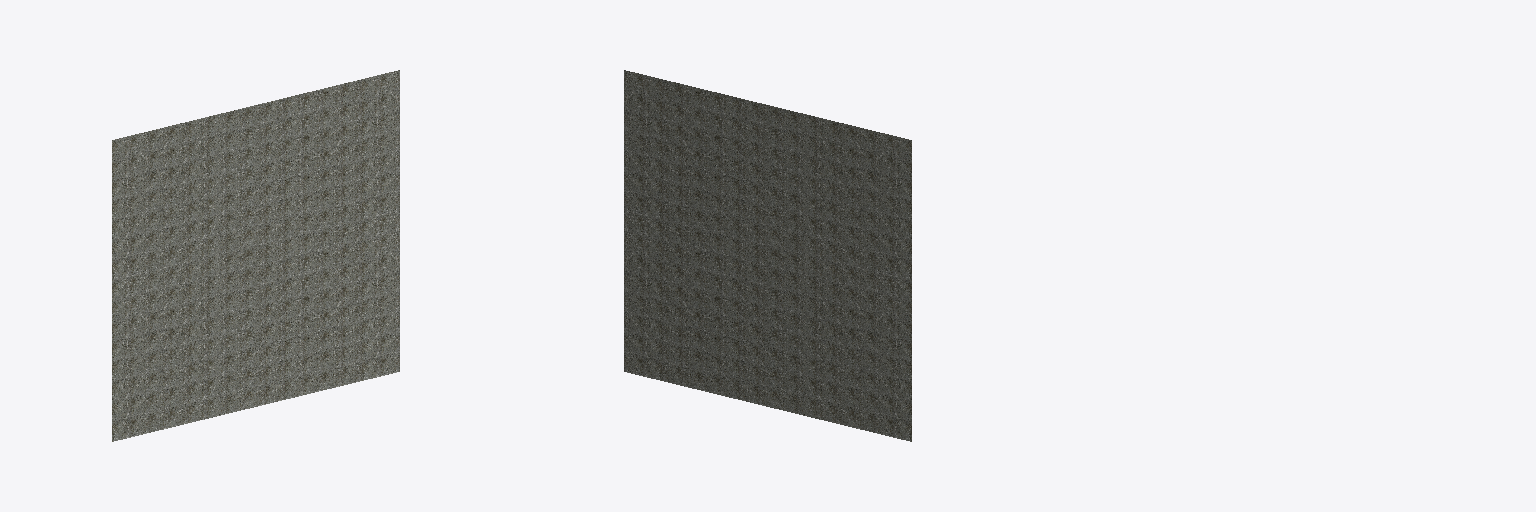
3 renders of one model, left to right at view 1: azimuth 30°, elevation 25°; view 2: azimuth 150°, elevation 25°; view 3: azimuth 270°, elevation 25°, orthographic.
Parts seen in each view (by area): view 1: Plane; view 2: Plane; view 3: none.
Part boxes in pixels (bbox=[...]): Plane: bbox=[112, 70, 399, 441]; Plane: bbox=[624, 70, 911, 441].
Bounding box in the file's own units: 30 × 30 × 0.
Materials: 1 (1 with a texture image).